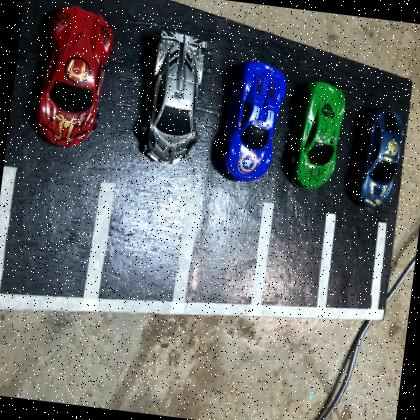Car: (31, 3, 118, 150), (138, 27, 212, 169), (220, 58, 290, 187), (289, 79, 350, 194), (354, 104, 406, 212)
